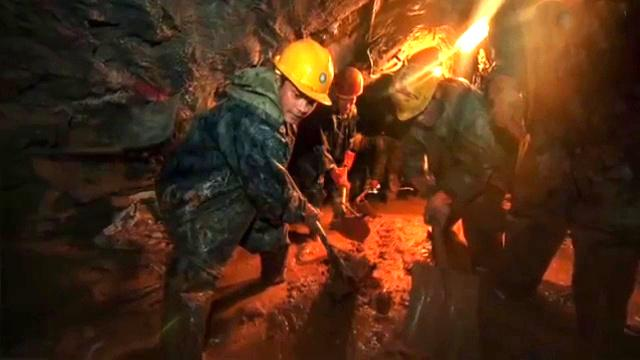helmet: (272, 37, 335, 124), (388, 62, 444, 127), (332, 66, 363, 113)
